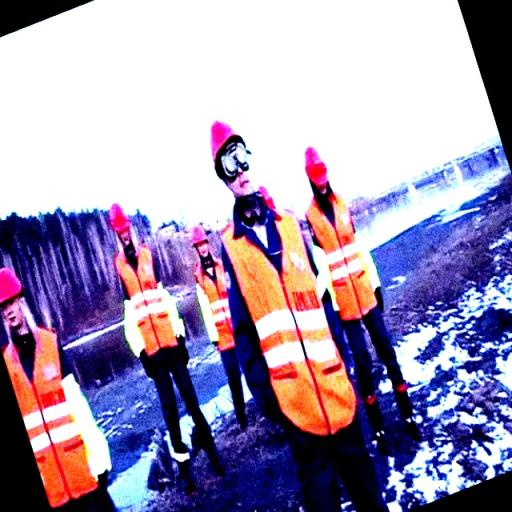Person: (190, 122, 377, 494), (284, 146, 420, 414), (92, 204, 222, 461), (2, 254, 124, 508), (176, 219, 254, 368)
goggles: (214, 143, 257, 176)
helmet: (295, 141, 335, 187), (204, 120, 250, 155), (105, 200, 139, 235), (0, 266, 23, 306), (192, 224, 210, 244)
vest: (216, 219, 359, 446), (1, 328, 123, 506), (307, 194, 375, 318), (111, 252, 184, 354), (189, 260, 244, 354)
